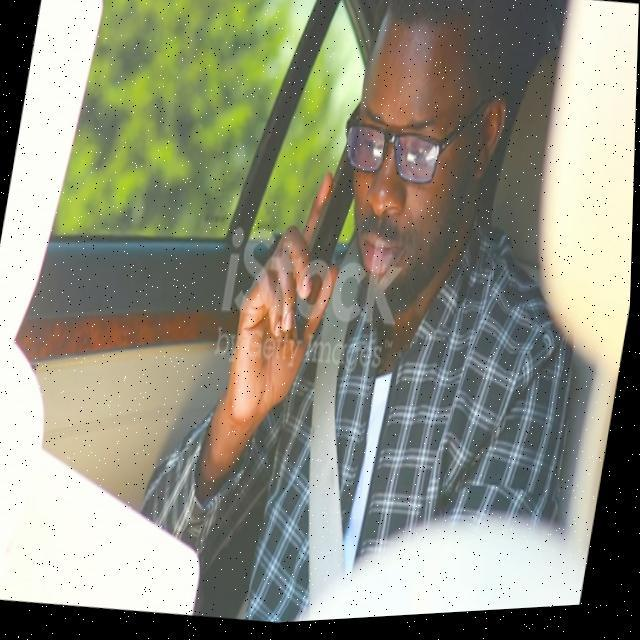PhoneCall: (280, 105, 376, 355)
